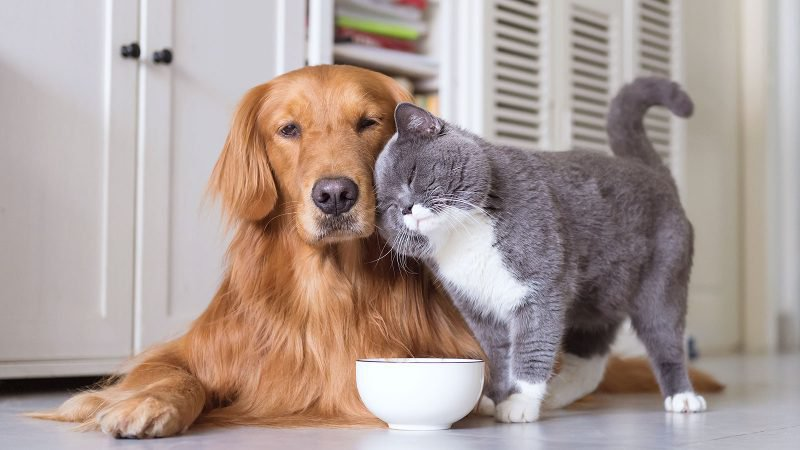cat: (350, 63, 730, 438)
dog: (80, 46, 539, 427)
